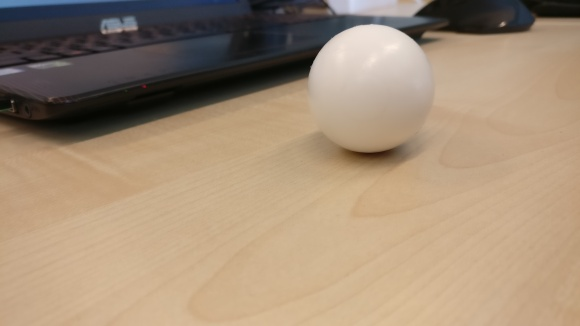egg: (308, 24, 433, 154)
